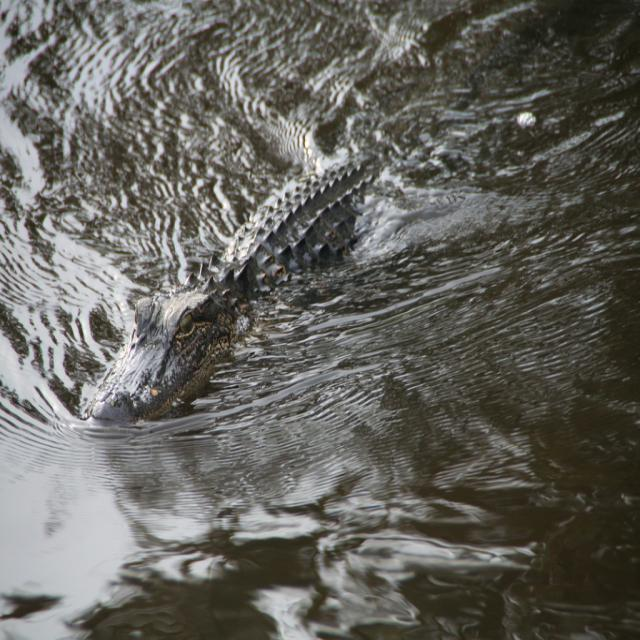crocodile: (57, 123, 419, 440)
